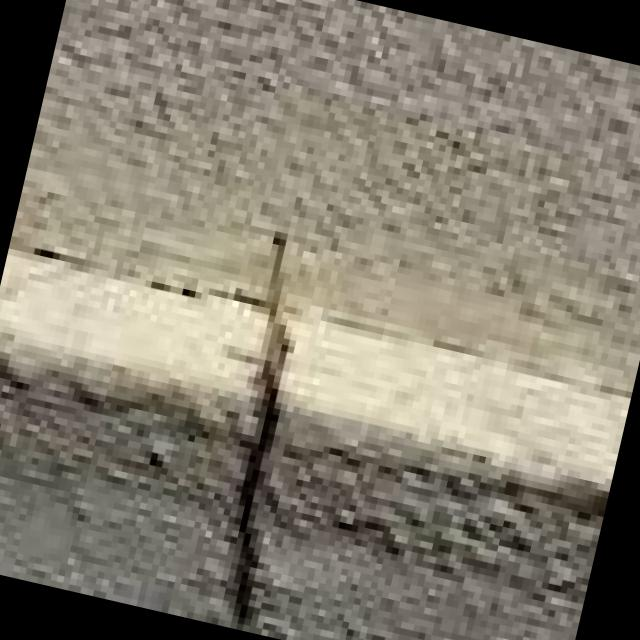crack: (200, 222, 340, 626)
